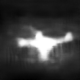plane: (15, 27, 76, 63)
